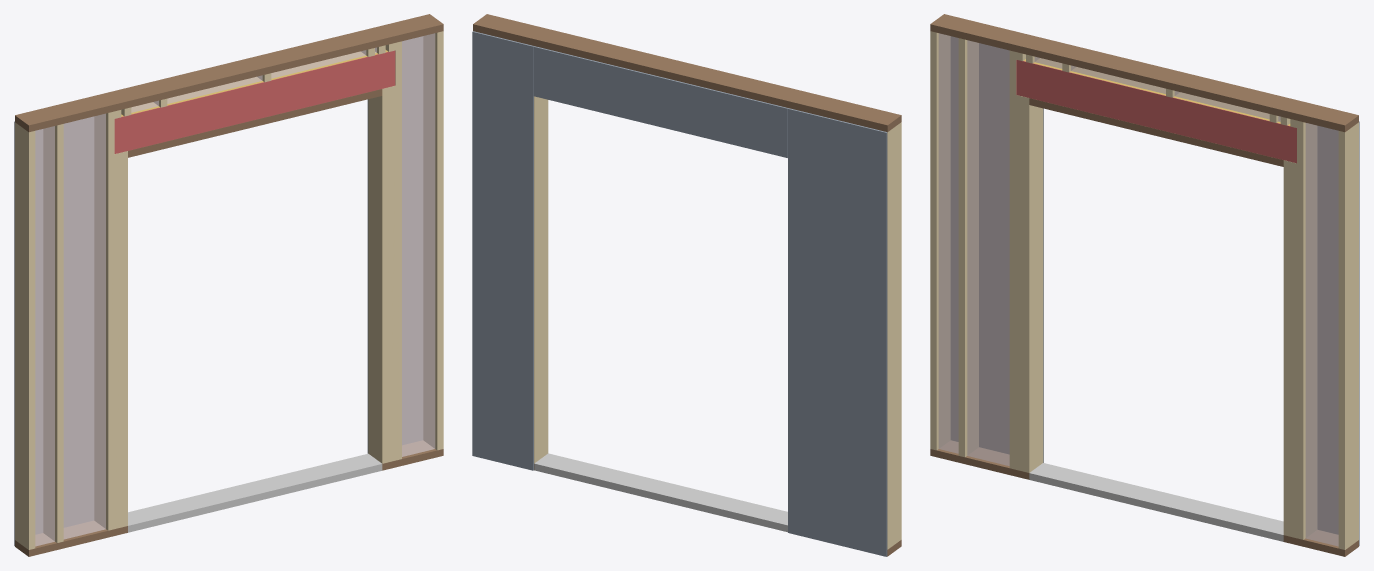
The picture shows the model from 3 angles, left to right: view 1: azimuth 30°, elevation 25°; view 2: azimuth 150°, elevation 25°; view 3: azimuth 330°, elevation 25°; orthographic projection.
Parts seen in each view (by area): view 1: EX14 GF; view 2: EX14 GF; view 3: EX14 GF.
Part boxes in pixels (box(x1,y1,x2,y2)): EX14 GF: box(14, 14, 443, 556); EX14 GF: box(472, 14, 901, 556); EX14 GF: box(930, 14, 1359, 556).
Bounding box in the file's own units: 2.4 × 2.39 × 0.149.
